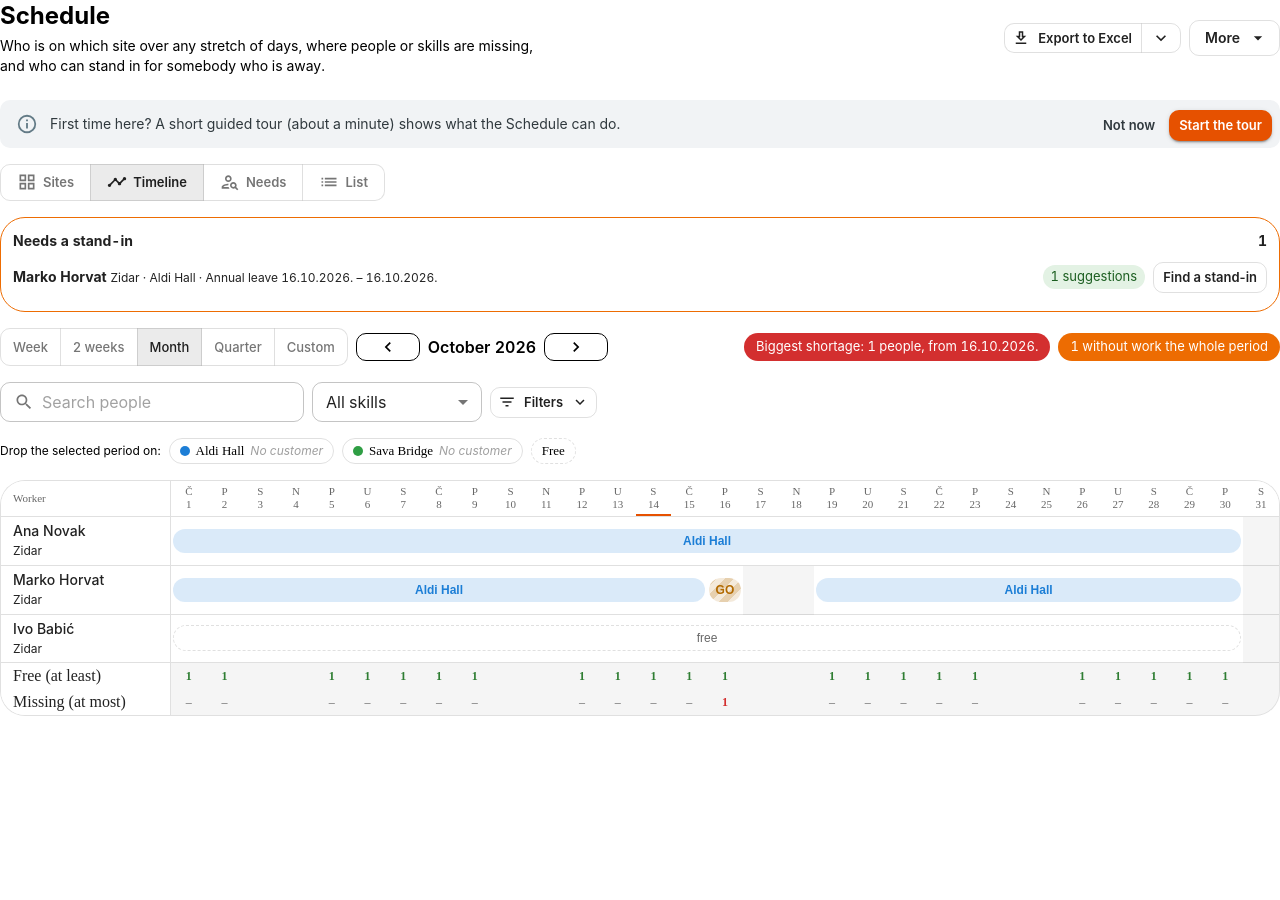
Test: PlanningPage › posts the chosen stand-in for the days of the absence
Click the button "Find a stand-in": (1210,277) [1153,262,1267,293]
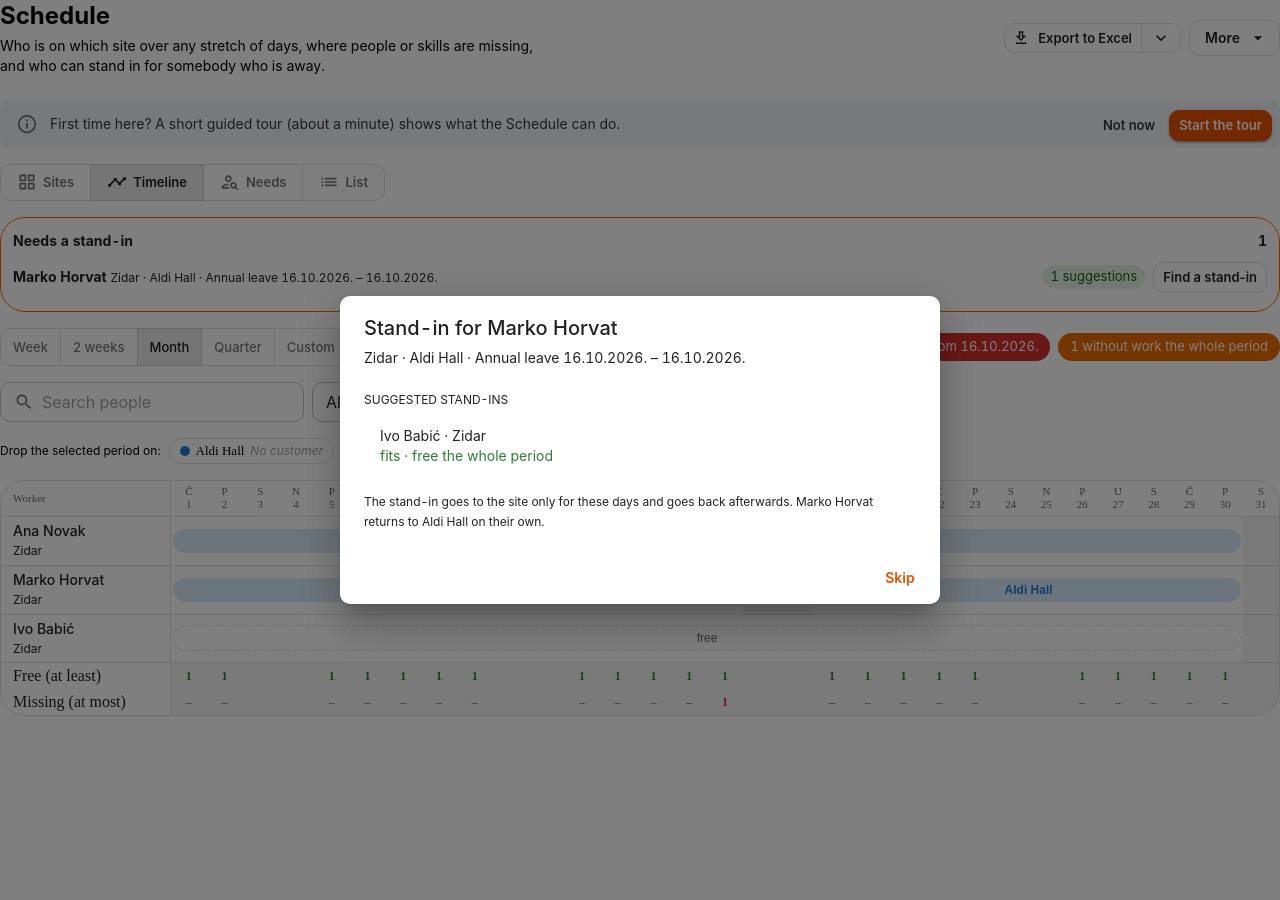
Click the text "Ivo Babić · Zidar": (433,435) [380,427,486,444]
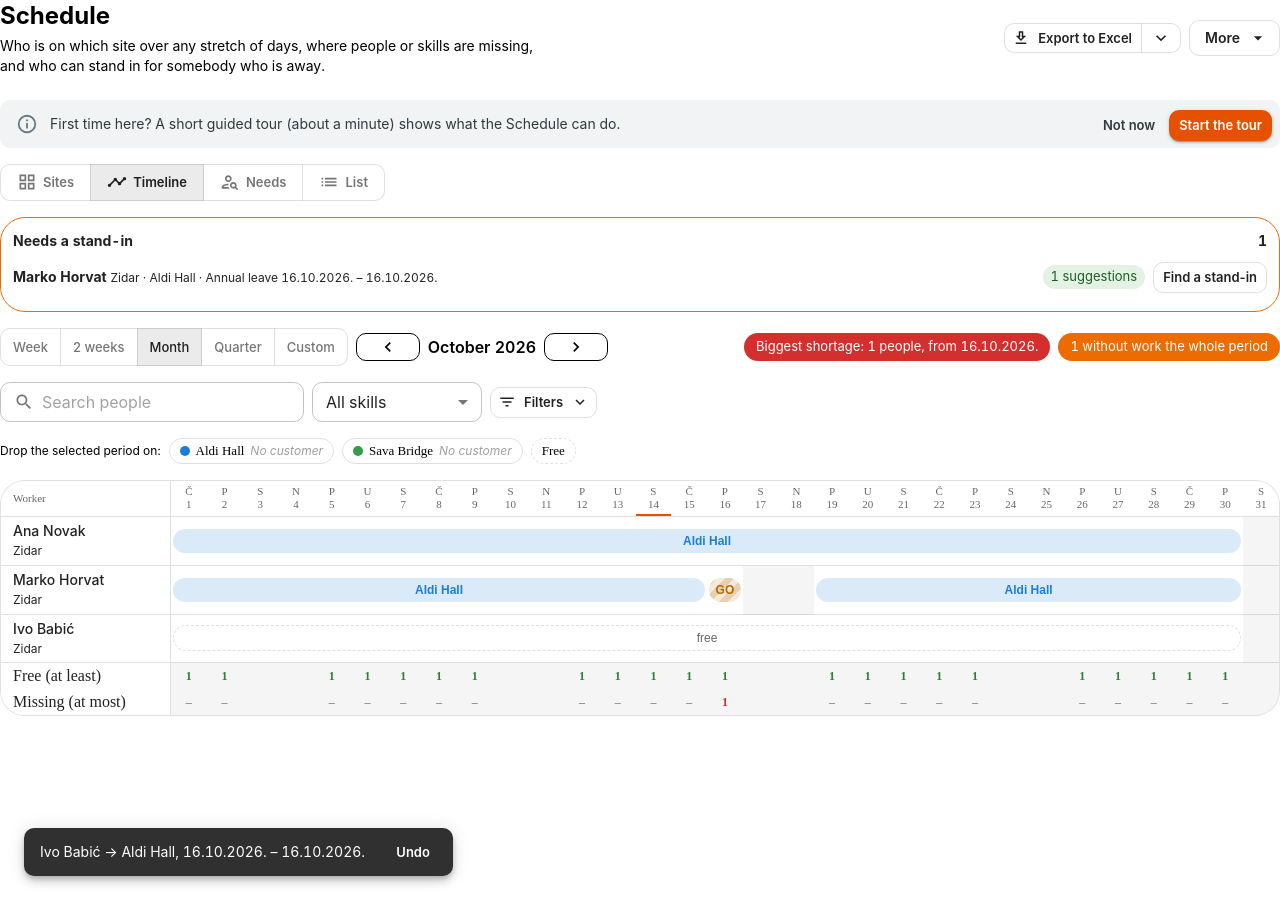
Result: the text "Ivo Babić → Aldi Hall, 16.10.2026. – 16.10.2026." is shown at [40,843,365,860]
